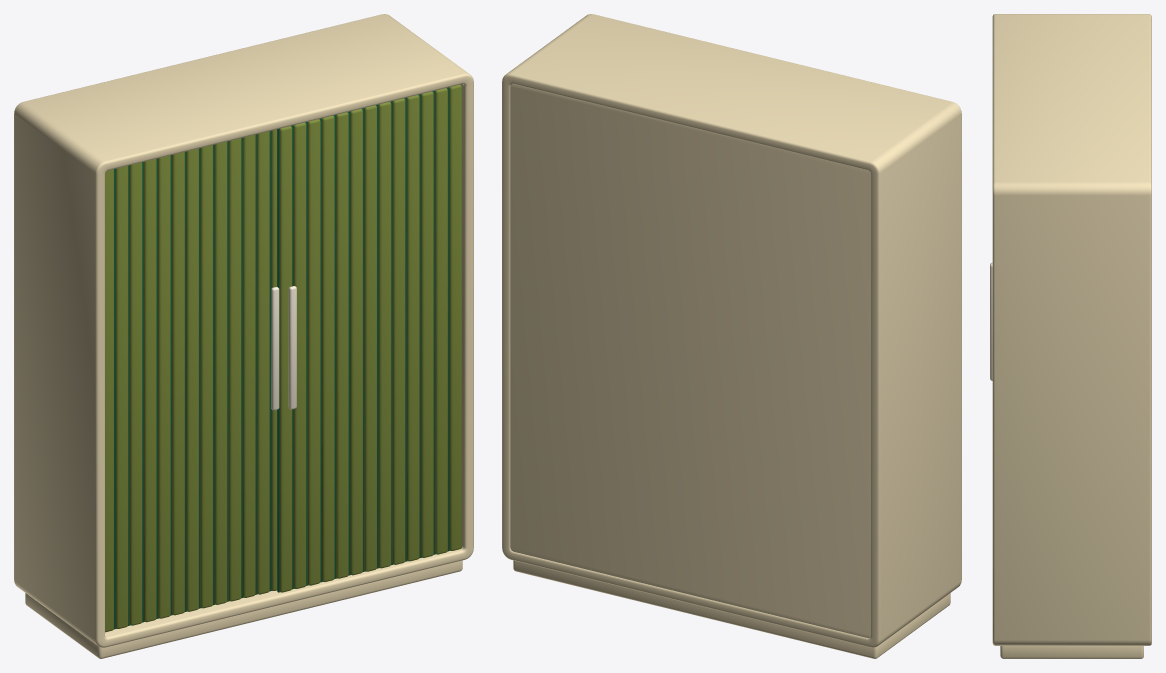
File: guarda_roupa_correr_ripas_oliva.glb
3 renders of one model, left to right at view 1: azimuth 30°, elevation 25°; view 2: azimuth 150°, elevation 25°; view 3: azimuth 270°, elevation 25°, orthographic. The views are drawn at different scales.
Visible parts, largest first — view 1: guarda_roupa_correr_ripas_oliva, correr_2, correr_1; view 2: guarda_roupa_correr_ripas_oliva; view 3: guarda_roupa_correr_ripas_oliva, correr_2.
Part boxes in pixels (box(x1,y1,x2,y2)): guarda_roupa_correr_ripas_oliva: box(14, 14, 473, 658); correr_2: box(277, 84, 461, 592); correr_1: box(105, 129, 279, 632); guarda_roupa_correr_ripas_oliva: box(502, 14, 961, 658); guarda_roupa_correr_ripas_oliva: box(992, 14, 1151, 658); correr_2: box(990, 262, 992, 380).
Bounding box in the file's own units: 1.62 × 2.05 × 0.63.
1 material, 1 textured.
